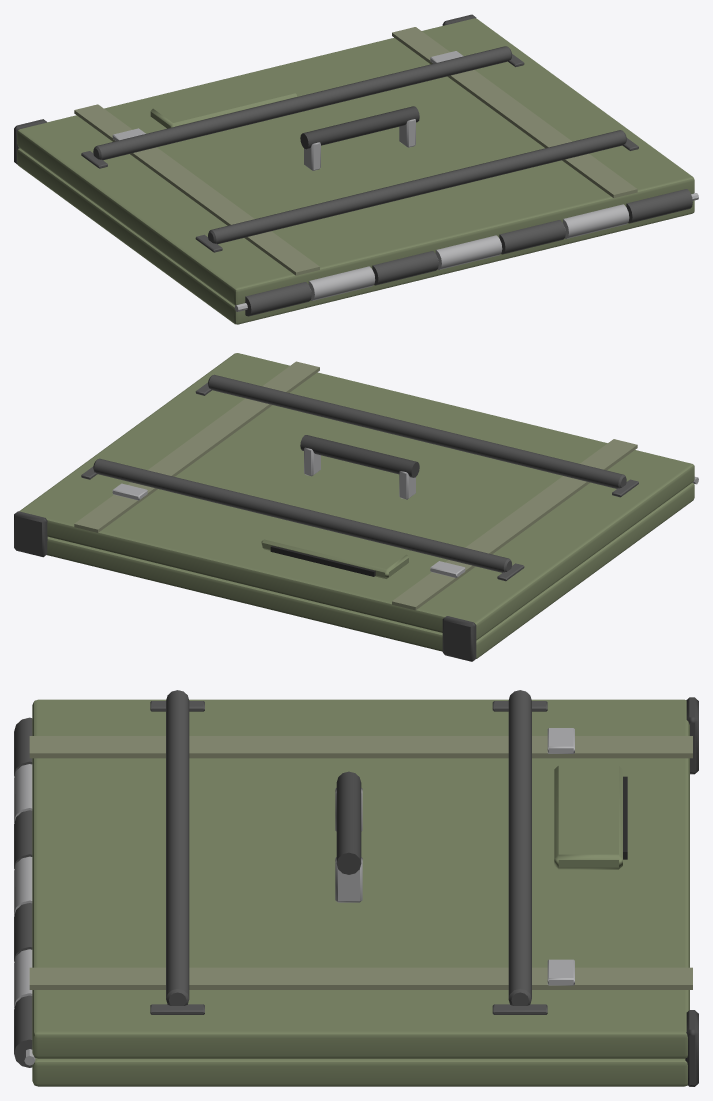
The model's file is deployable_cover.glb.
The picture shows the model from 3 angles, top to bottom: view 1: azimuth 30°, elevation 25°; view 2: azimuth 150°, elevation 25°; view 3: azimuth 270°, elevation 25°; orthographic projection. The views are drawn at different scales.
Visible parts, largest first — view 1: body; view 2: body; view 3: body.
Part boxes in pixels (bbox=[...]): body: bbox=[14, 14, 698, 324]; body: bbox=[14, 353, 698, 661]; body: bbox=[14, 690, 698, 1086].
Size of the model in its own units: 0.58 by 0.0875 by 0.5.
